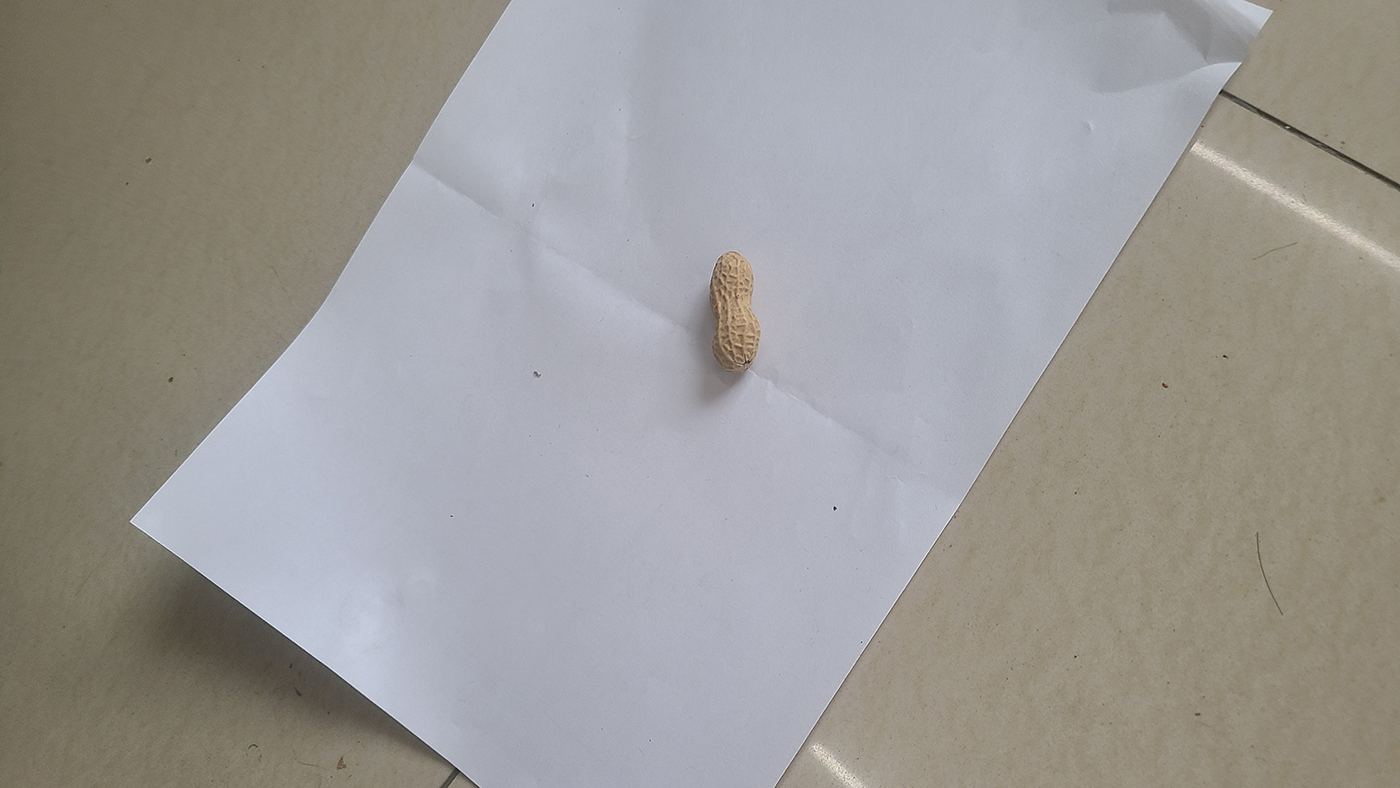h: (707, 249, 761, 372)
